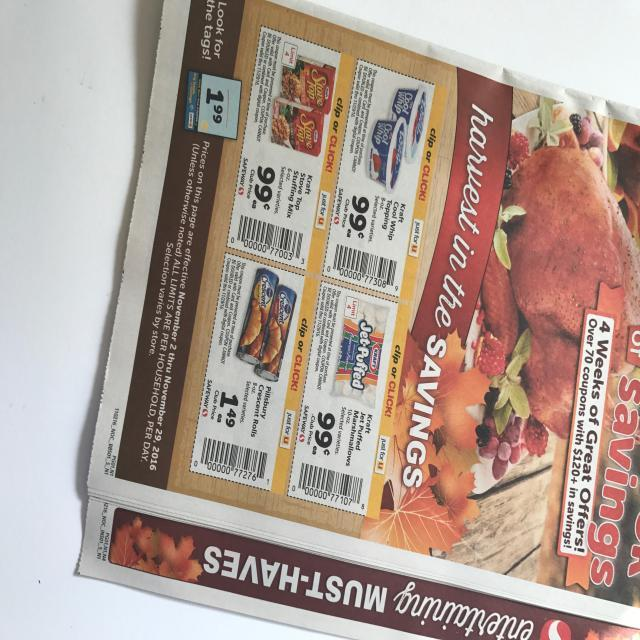paper: (78, 3, 640, 640)
